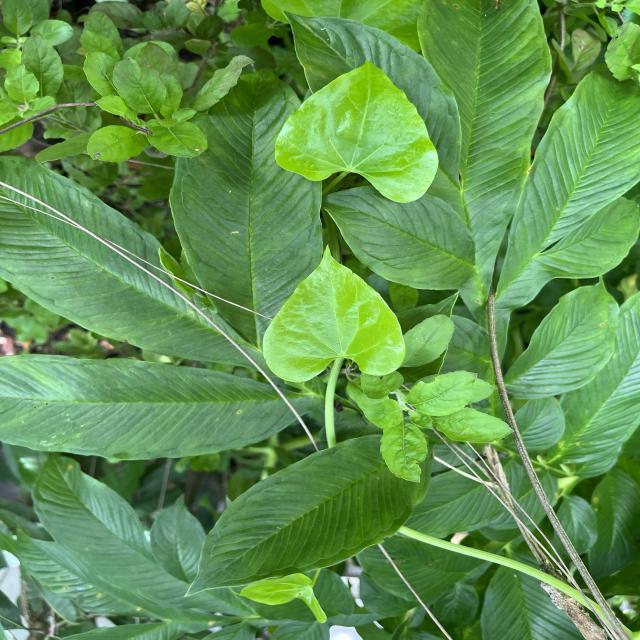Tinospora cordifolia: (273, 58, 442, 206), (261, 242, 408, 386)
